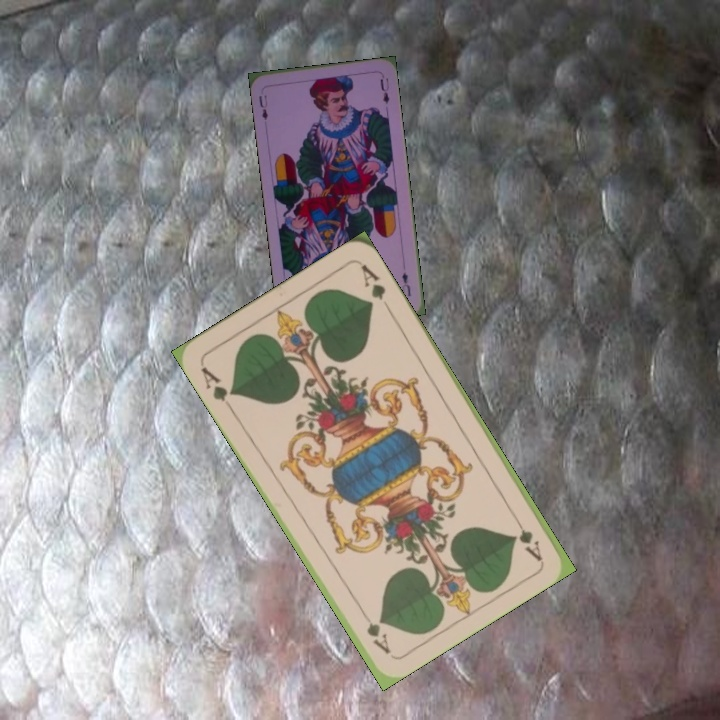EU: (255, 91, 271, 122), (398, 268, 414, 299)
GA: (197, 362, 238, 413), (507, 509, 544, 563)
